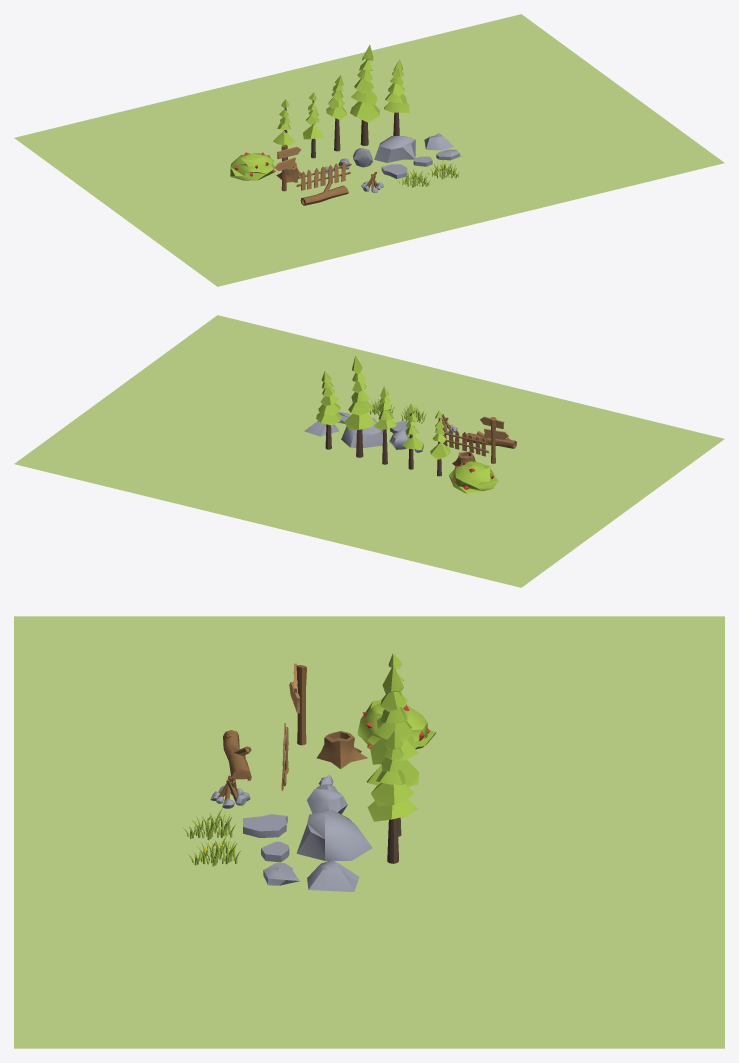
File: low_poly_nature_assets_1.glb
3 renders of one model, top to bottom at view 1: azimuth 30°, elevation 25°; view 2: azimuth 150°, elevation 25°; view 3: azimuth 270°, elevation 25°, orthographic. The views are drawn at different scales.
Visible parts, largest first — view 1: Plane, default9_Material_0, default4_Material_0, default11_Material_0, default8_Material_0, default2_Material_0, default10_Material_0, default6_Material_0, default7_Material_0; view 2: Plane, default9_Material_0, default4_Material_0, default11_Material_0, default8_Material_0, default10_Material_0, default2_Material_0, default6_Material_0; view 3: Plane, default8_Material_0, default9_Material_0, default4_Material_0, default1_Material_0, default6_Material_0, default7_Material_0, default5_Material_0, default3_Material_0, default_Material_0.
Part boxes in pixels (x1,y1,x2,y2): Plane: (14,14,724,286); default9_Material_0: (350,44,379,145); default4_Material_0: (230,152,275,180); default11_Material_0: (273,92,323,159); default8_Material_0: (384,59,409,135); default2_Material_0: (296,162,351,190); default10_Material_0: (326,75,346,151); default6_Material_0: (274,144,301,191); default7_Material_0: (300,181,348,205); Plane: (14,315,724,587); default9_Material_0: (344,355,375,457); default4_Material_0: (449,461,498,493); default11_Material_0: (402,403,450,476); default8_Material_0: (316,371,342,449); default10_Material_0: (374,386,396,464); default2_Material_0: (435,427,488,456); default6_Material_0: (480,416,508,463); Plane: (14,616,724,1048); default8_Material_0: (367,731,417,863); default9_Material_0: (366,665,418,836); default4_Material_0: (357,700,436,749); default1_Material_0: (316,731,367,768); default6_Material_0: (289,663,306,745); default7_Material_0: (223,730,251,781); default5_Material_0: (188,834,240,866); default3_Material_0: (182,807,235,840); default_Material_0: (210,775,250,808).
Bounding box in the file's own units: 0.675 × 0.1307 × 0.469.
1 material, 1 textured.
